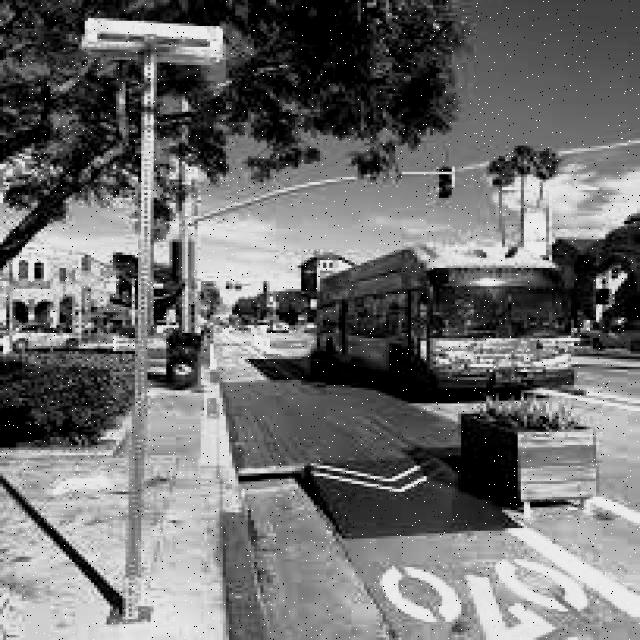Bus: (310, 245, 580, 404)
